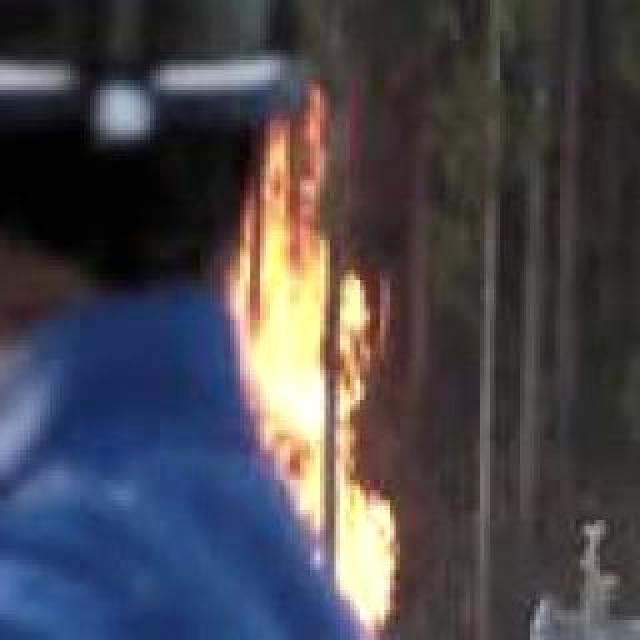fire: (252, 140, 406, 628)
